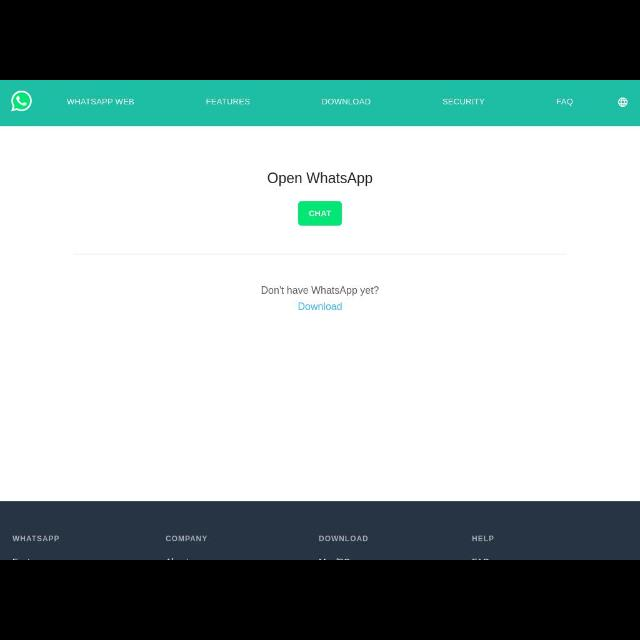icon: (616, 96, 628, 108)
image: (6, 90, 38, 116)
link: (297, 302, 345, 314)
text: (258, 281, 384, 297), (267, 172, 375, 188), (65, 98, 133, 109), (320, 95, 372, 108), (204, 96, 253, 108), (442, 96, 486, 108), (13, 534, 61, 544), (318, 534, 370, 542), (166, 535, 208, 543), (470, 532, 494, 546), (554, 96, 576, 108)
textbutton: (298, 200, 342, 226)
toolbar: (1, 81, 639, 127)
